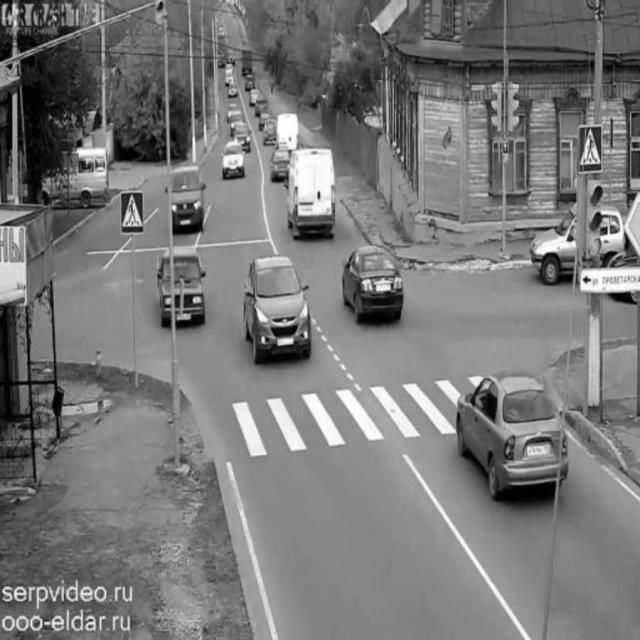vehicle: (454, 373, 567, 499), (535, 209, 628, 287), (244, 259, 308, 357), (343, 243, 405, 324), (286, 150, 338, 234), (38, 148, 111, 203), (160, 250, 204, 328), (167, 163, 205, 230), (220, 140, 248, 185), (271, 142, 295, 184), (261, 118, 278, 152), (227, 108, 245, 136), (248, 82, 263, 102), (229, 77, 239, 97)
